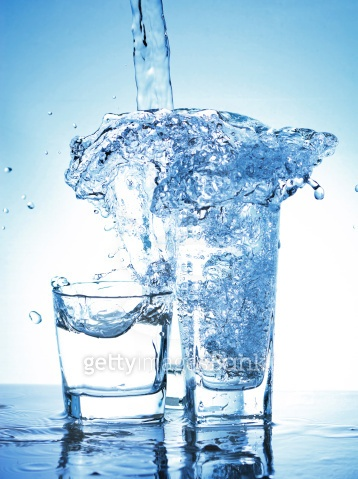glass of water: (157, 156, 291, 441), (46, 265, 175, 439)
